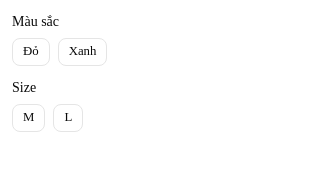
Test: VariantSelector › disable đúng option hết hàng theo combo đã chọn, không disable cả sản phẩm
Check: the button "Đỏ" is enabled, box left=12, top=38, right=50, bottom=66
Click the button "L" at {"x": 68, "y": 118}, box left=53, top=104, right=83, bottom=132
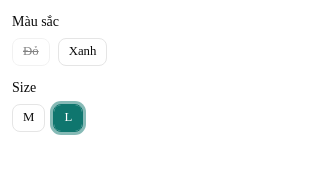
Check: the button "Xanh" is enabled, box left=58, top=38, right=107, bottom=66
Check: the button "Đỏ" is disabled, box left=12, top=38, right=50, bottom=66
